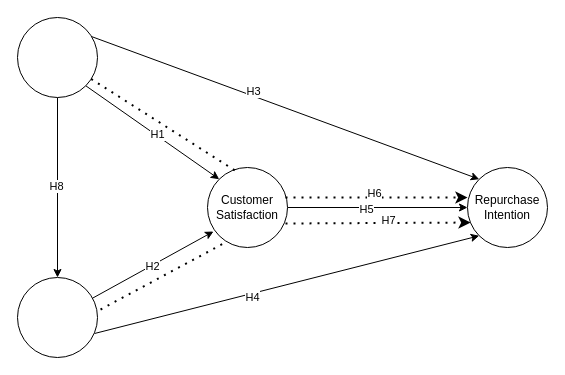
The diagram is 565 pixels wide and 375 high, and some of its shapes have lost their labels. The centre of each missing label's shape, as x and y in pixels:
Perceived Ease of Use: (57,57)
Perceived Usefulness: (57,317)
